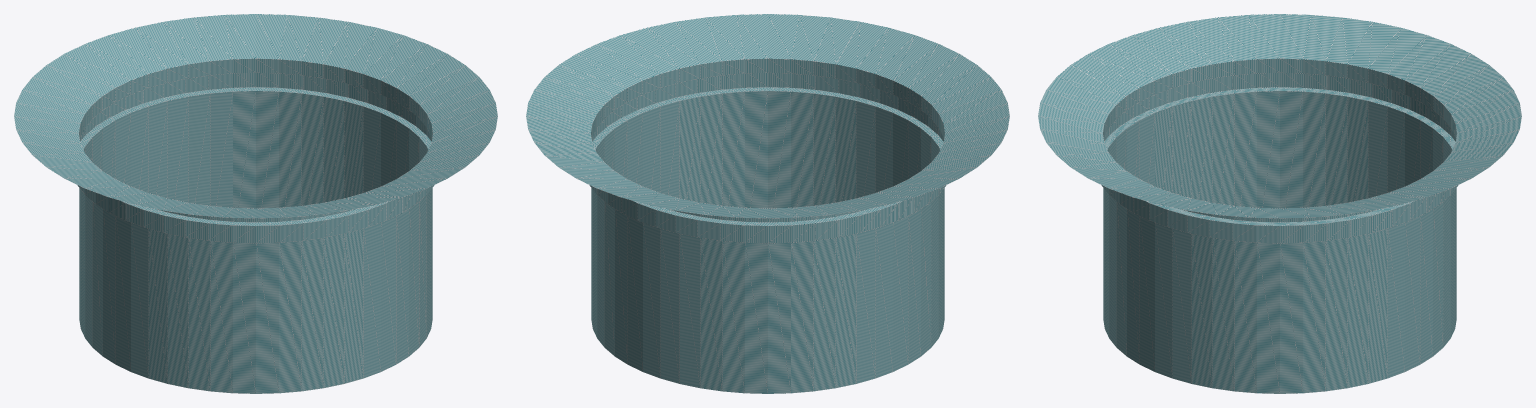
File: walls.obj
The picture shows the model from 3 angles, left to right: view 1: azimuth 30°, elevation 25°; view 2: azimuth 150°, elevation 25°; view 3: azimuth 270°, elevation 25°; orthographic projection.
Visible parts, largest first — view 1: Cylinder_Cylinder.001; view 2: Cylinder_Cylinder.001; view 3: Cylinder_Cylinder.001.
Boxes of the visible parts, box(x1,y1,x2,y2) form: Cylinder_Cylinder.001: box(14, 14, 497, 393); Cylinder_Cylinder.001: box(526, 14, 1009, 393); Cylinder_Cylinder.001: box(1038, 14, 1521, 393).
Bounding box in the file's own units: 182 × 84.11 × 182.
